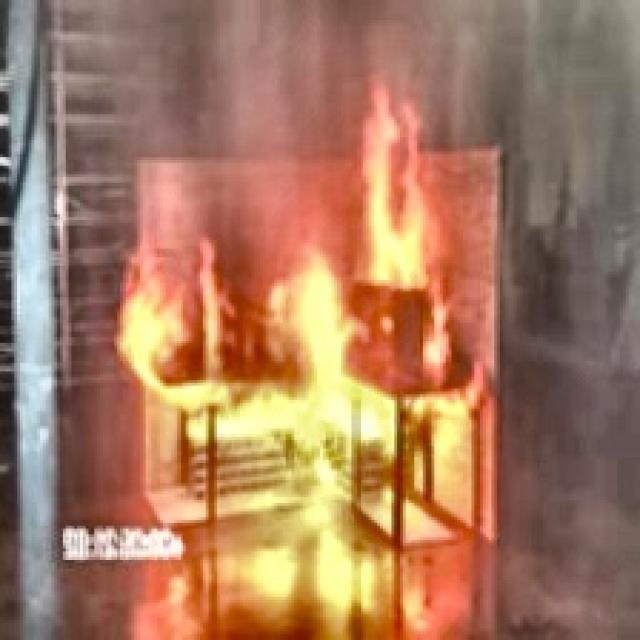fire: (113, 84, 516, 504)
